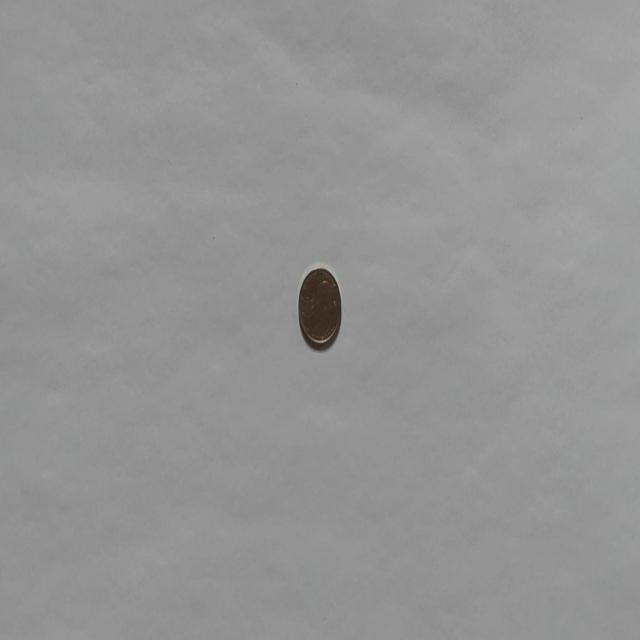seribu rupiah koin: (296, 263, 342, 350)
